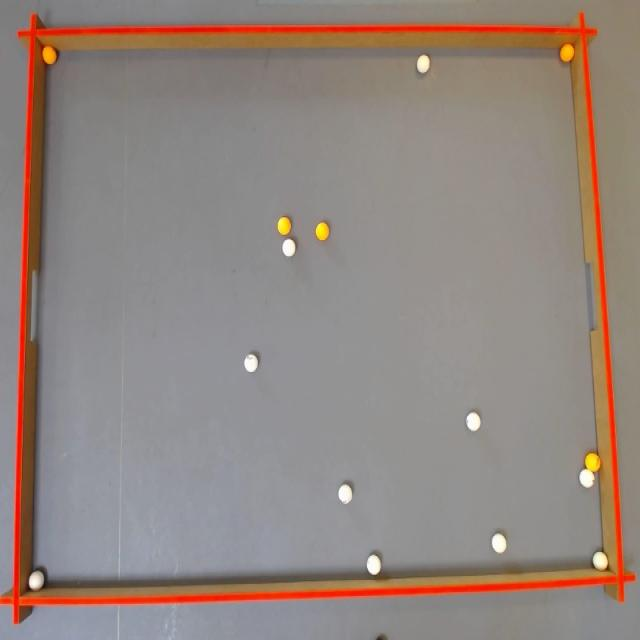orange_ball: (585, 452, 600, 472), (42, 46, 57, 64), (560, 43, 574, 62), (315, 222, 329, 240), (278, 217, 290, 234)
white_ball: (28, 570, 45, 591), (592, 551, 608, 571), (579, 469, 595, 488), (492, 533, 506, 554), (367, 554, 381, 575), (466, 412, 481, 431), (338, 484, 352, 504), (244, 354, 258, 373), (282, 238, 296, 256), (416, 54, 429, 73)
